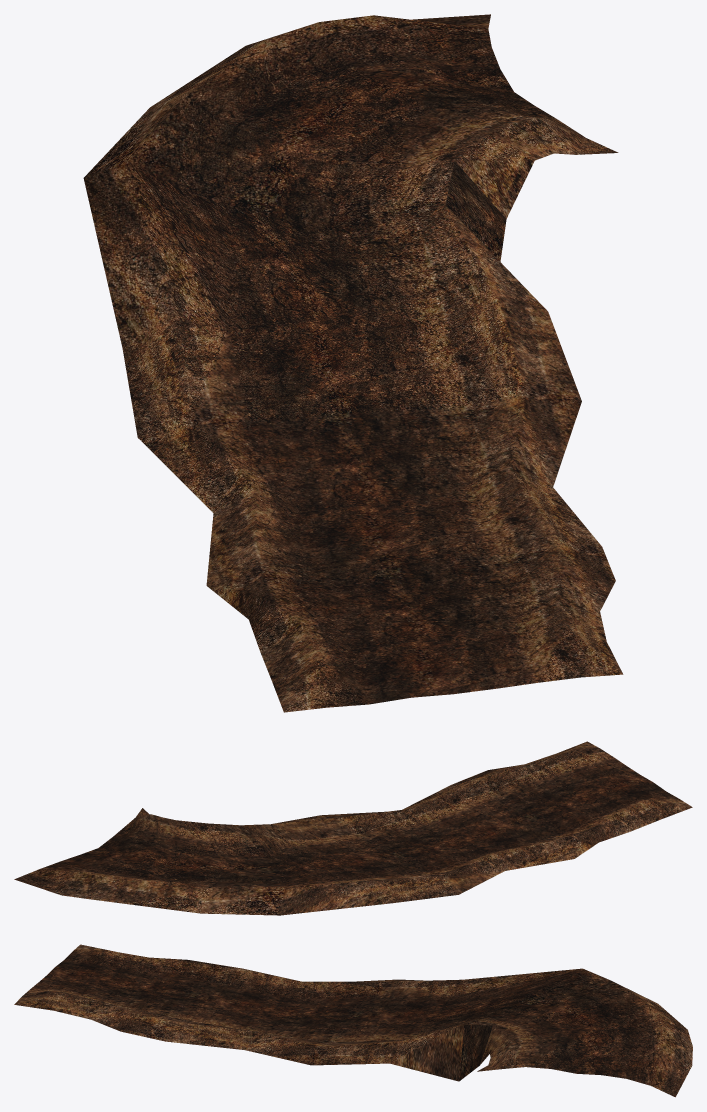
File: drag_marks.dae
The picture shows the model from 3 angles, top to bottom: view 1: azimuth 30°, elevation 25°; view 2: azimuth 150°, elevation 25°; view 3: azimuth 270°, elevation 25°; orthographic projection. The views are drawn at different scales.
Visible parts, largest first — view 1: drag_mark; view 2: drag_mark; view 3: drag_mark.
Boxes of the visible parts, box(x1,y1,x2,y2) form: drag_mark: box(83, 14, 623, 712); drag_mark: box(14, 741, 692, 915); drag_mark: box(14, 944, 692, 1097).
Bounding box in the file's own units: 32.95 × 47.87 × 5.57.
Materials: 1 (1 with a texture image).
